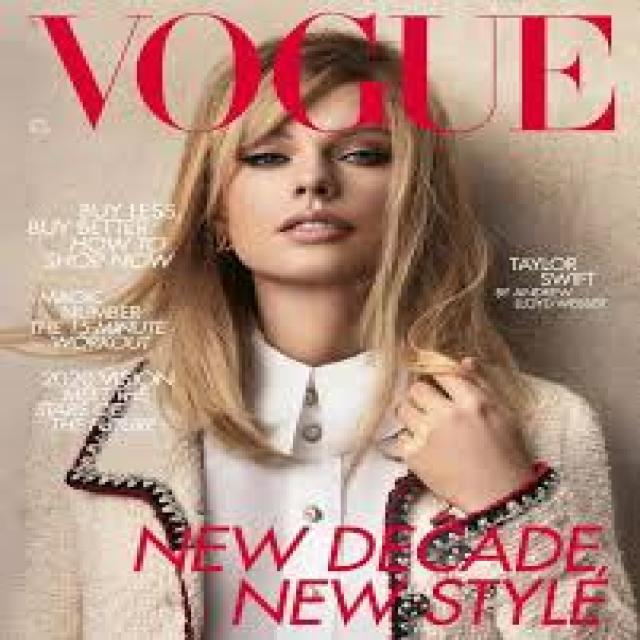paper: (0, 18, 640, 634)
